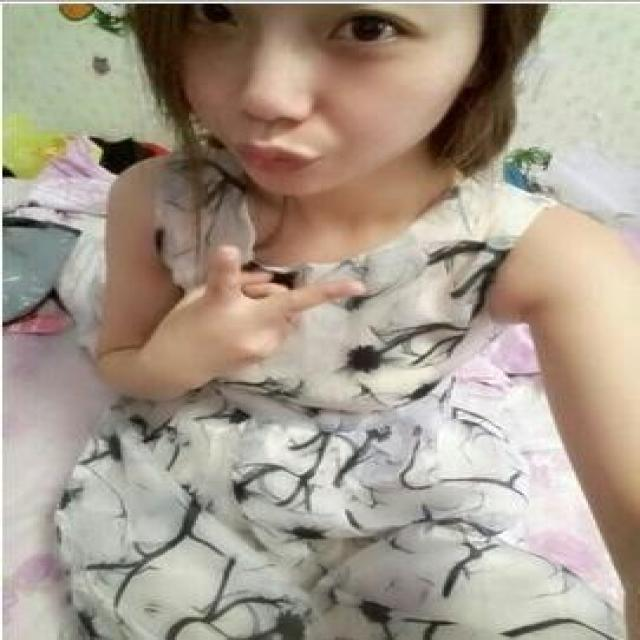vest dress: (59, 150, 626, 638)
